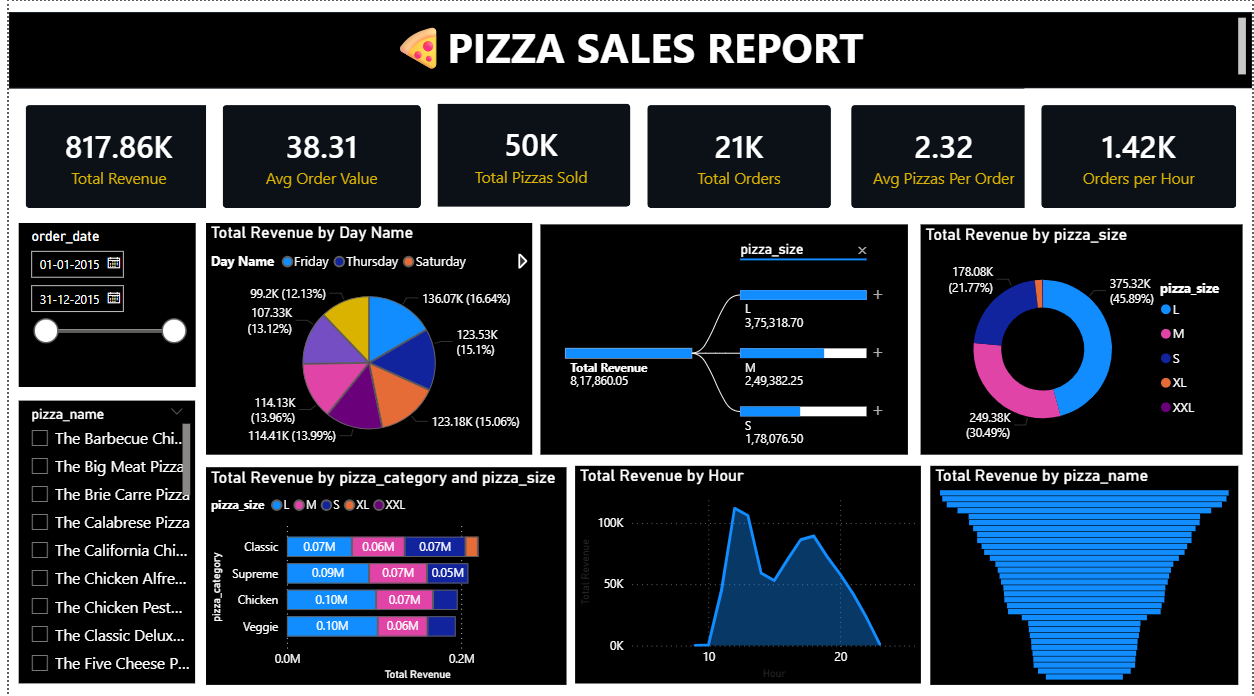

Layout of this report page (visuals, bound fields, positions):
{"tool":"powerbi","page":{"name":"Page 1","canvas":[1280,720],"ordinal":0},"visuals":[{"type":"cardVisual","fields":{"Data":["pizza_sales.Total Revenue"]},"box":[0,90,226.7,140],"z":0},{"type":"cardVisual","fields":{"Data":["pizza_sales.Total Orders"]},"box":[640,90,223.3,140],"z":1000},{"type":"cardVisual","fields":{"Data":["pizza_sales.Total Pizzas Sold"]},"box":[418.3,88.3,238.3,140],"z":2000},{"type":"cardVisual","fields":{"Data":["pizza_sales.Avg Order Value"]},"box":[203.3,90,238.3,140],"z":3000},{"type":"cardVisual","fields":{"Data":["pizza_sales.Avg Pizzas Per Order"]},"box":[850,90,225,140],"z":4000},{"type":"textbox","box":[0,11.7,1280,78.3],"z":5000},{"type":"cardVisual","fields":{"Data":["pizza_sales.Orders per Hour"]},"box":[1045,90,235,140],"z":6000},{"type":"pieChart","fields":{"Y":["pizza_sales.Total Revenue"],"Category":["pizza_sales.Day Name"]},"box":[202.9,228.6,335.7,238.6],"z":7000},{"type":"decompositionTreeVisual","fields":{"Analyze":["pizza_sales.Total Revenue"],"ExplainBy":["pizza_sales.pizza_size","pizza_sales.pizza_category","pizza_sales.Day Name"]},"box":[547.1,230,378.6,237.1],"z":8000},{"type":"barChart","fields":{"Category":["pizza_sales.pizza_category"],"Y":["pizza_sales.Total Revenue"],"Series":["pizza_sales.pizza_size"]},"box":[202.9,480,371.4,224.3],"z":9000},{"type":"areaChart","fields":{"Category":["pizza_sales.Hour"],"Y":["pizza_sales.Total Revenue"]},"box":[582.9,478.6,355.7,224.3],"z":10000},{"type":"donutChart","fields":{"Y":["pizza_sales.Total Revenue"],"Category":["pizza_sales.pizza_size"]},"box":[938.6,230,331.4,237.1],"z":11000},{"type":"funnel","fields":{"Category":["pizza_sales.pizza_name"],"Y":["pizza_sales.Total Revenue"]},"box":[948.6,478.6,317.1,225.7],"z":12000},{"type":"slicer","fields":{"Values":["pizza_sales.order_date"]},"box":[10,228.6,181.4,168.6],"z":13000},{"type":"slicer","fields":{"Values":["pizza_sales.pizza_name"]},"box":[10,411.4,181.4,291.4],"z":14000}]}

Visuals, with their boxes in screenshot pixels (x1, y1, x2, y2), scaled from the page's 1280x720 canvas onto the 1254x696 screenshot:
cardVisual - pizza_sales.Total Revenue: 0,87,222,222
cardVisual - pizza_sales.Total Orders: 627,87,846,222
cardVisual - pizza_sales.Total Pizzas Sold: 410,85,643,221
cardVisual - pizza_sales.Avg Order Value: 199,87,433,222
cardVisual - pizza_sales.Avg Pizzas Per Order: 833,87,1053,222
textbox: 0,11,1253,87
cardVisual - pizza_sales.Orders per Hour: 1024,87,1253,222
pieChart - pizza_sales.Total Revenue x pizza_sales.Day Name: 199,221,528,452
decompositionTreeVisual - pizza_sales.Total Revenue x pizza_sales.pizza_size: 536,222,907,452
barChart - pizza_sales.pizza_category x pizza_sales.Total Revenue: 199,464,563,681
areaChart - pizza_sales.Hour x pizza_sales.Total Revenue: 571,463,920,679
donutChart - pizza_sales.Total Revenue x pizza_sales.pizza_size: 920,222,1244,452
funnel - pizza_sales.pizza_name x pizza_sales.Total Revenue: 929,463,1240,681
slicer - pizza_sales.order_date: 10,221,188,384
slicer - pizza_sales.pizza_name: 10,398,188,679
